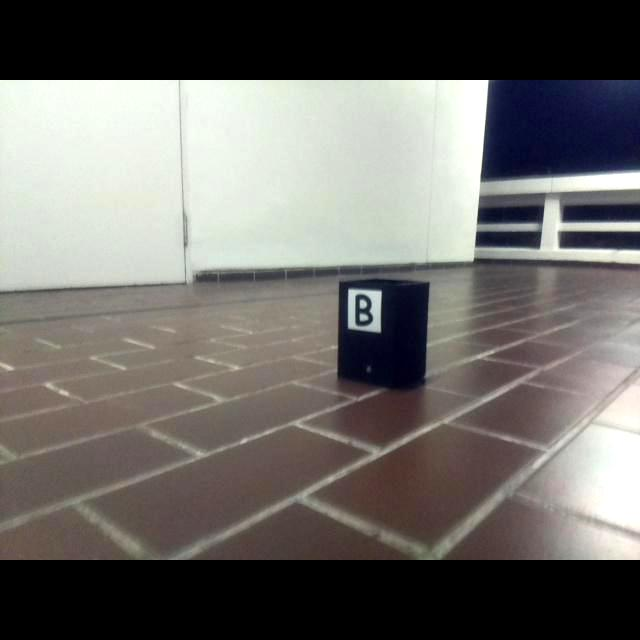B: (355, 294, 374, 327)
